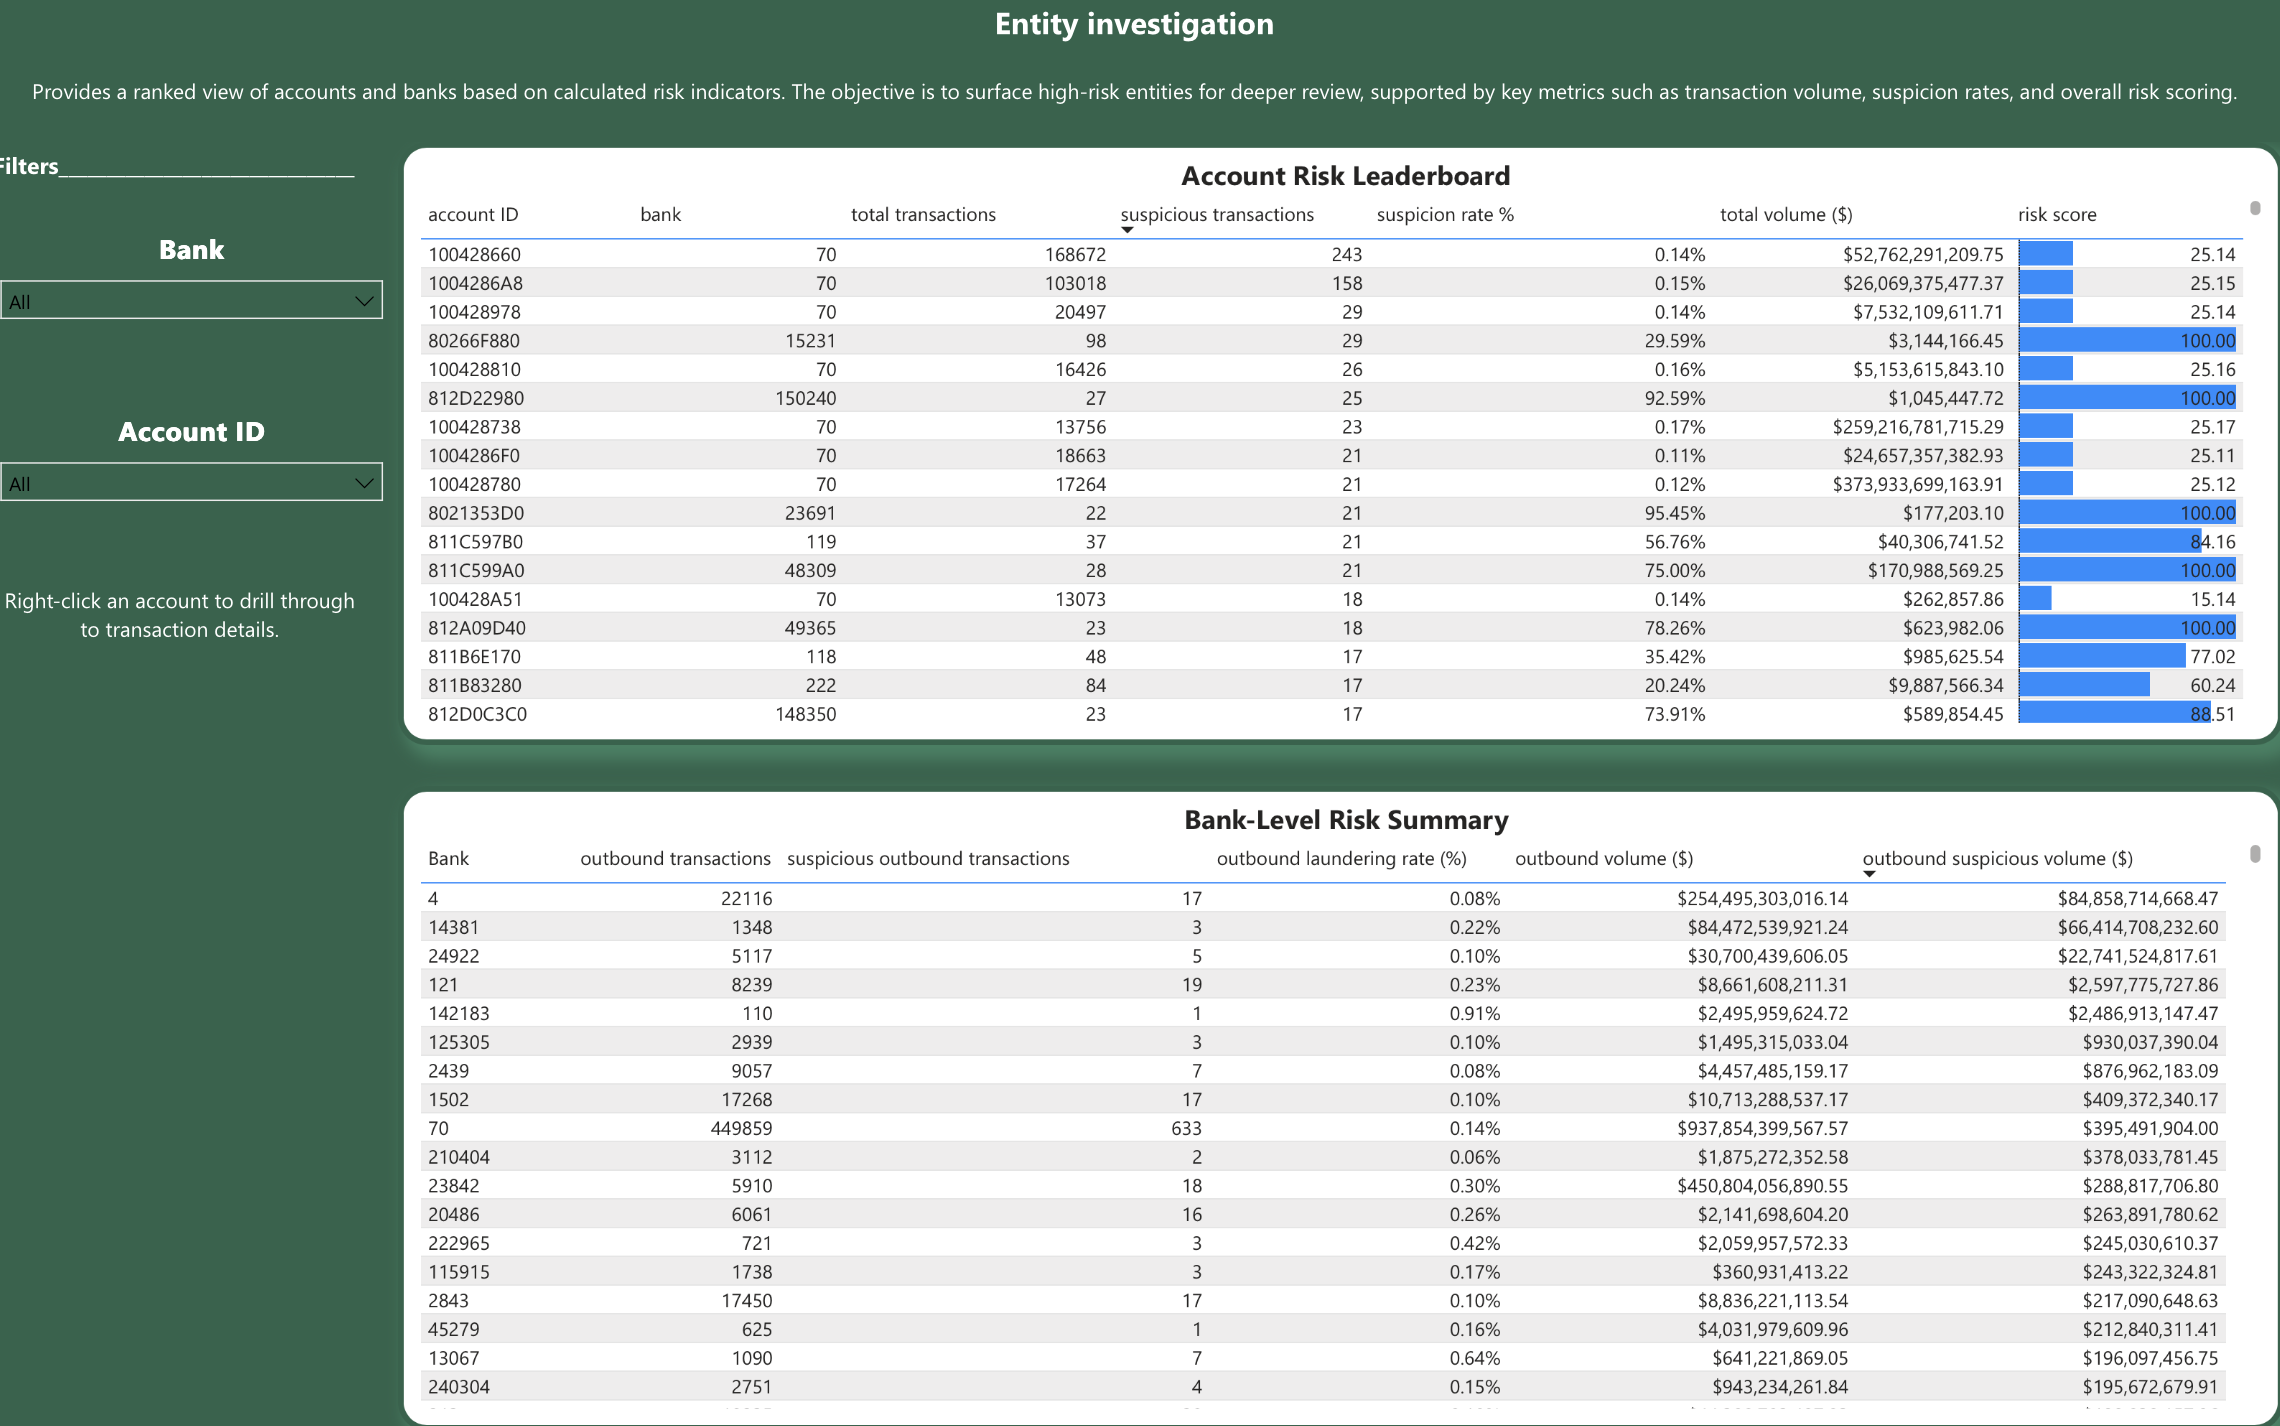

The page's visual inventory and layout, read from the dashboard file:
{"tool":"powerbi","page":{"name":"Entity Investigation","canvas":[1600,1000],"ordinal":2},"visuals":[{"type":"shape","title":"Sidebar Background","box":[0,0,286.3,1000.4],"z":0},{"type":"textbox","box":[0,0,1599.5,102.5],"z":1000},{"type":"tableEx","title":"Account Risk Leaderboard","fields":{"Values":["account_risk_cache.account_id","account_risk_cache.bank","account_risk_cache.total_txns","account_risk_cache.suspicious_txns","account_risk_cache.suspicion_rate_pct","account_risk_cache.total_volume_usd","account_risk_cache.risk_score"]},"box":[286.4,102.5,1313.1,419.8],"z":2000},{"type":"tableEx","title":"Bank-Level Risk Summary","fields":{"Values":["bank_risk_cache.bank_name","bank_risk_cache.outbound_txns","bank_risk_cache.outbound_suspicious","bank_risk_cache.outbound_laundering_rate_pct","bank_risk_cache.outbound_volume_usd","bank_risk_cache.outbound_suspicious_volume_usd"]},"box":[286.4,551.6,1313.1,449.1],"z":3000},{"type":"slicer","title":"Account ID","fields":{"Values":["account_risk_cache.account_id"]},"box":[0,291.3,286.4,100.9],"z":5000},{"type":"slicer","title":"Bank","fields":{"Values":["bank_risk_cache.bank_name"]},"box":[0,164.3,286.4,100.9],"z":7000},{"type":"textbox","box":[0,102.5,286.4,61.8],"z":8000},{"type":"textbox","box":[0,51.4,1600.3,51.4],"z":8001},{"type":"textbox","box":[0,406.1,269.7,64.2],"z":8002}]}

Visuals, with their boxes in screenshot pixels (x1, y1, x2, y2), scaled from the page's 1600x1000 canvas onto the 2280x1426 screenshot:
"Sidebar Background" shape: [0,0,408,1425]
textbox: [0,0,2279,146]
"Account Risk Leaderboard" tableEx: [408,146,2279,745]
"Bank-Level Risk Summary" tableEx: [408,787,2279,1425]
"Account ID" slicer: [0,415,408,559]
"Bank" slicer: [0,234,408,378]
textbox: [0,146,408,234]
textbox: [0,73,2279,147]
textbox: [0,579,384,671]
